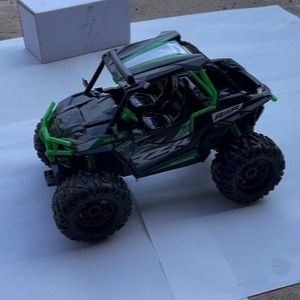polaris: (32, 29, 287, 244)
